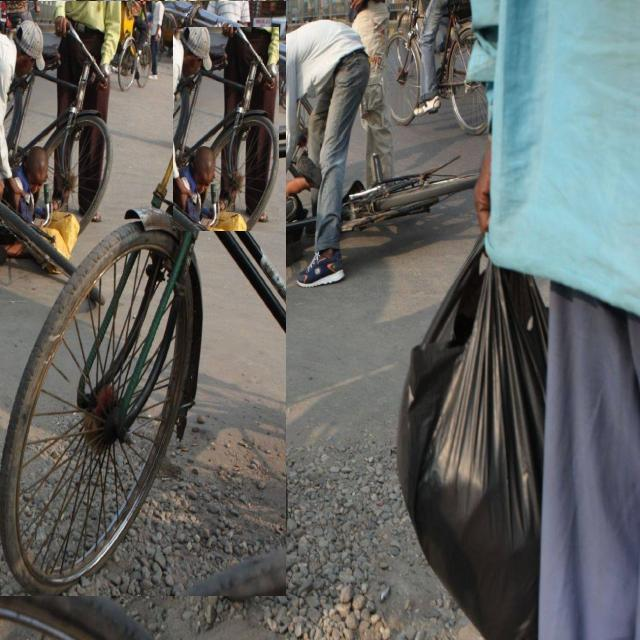bicycle: (0, 2, 286, 596), (174, 28, 279, 231), (386, 0, 488, 135)
